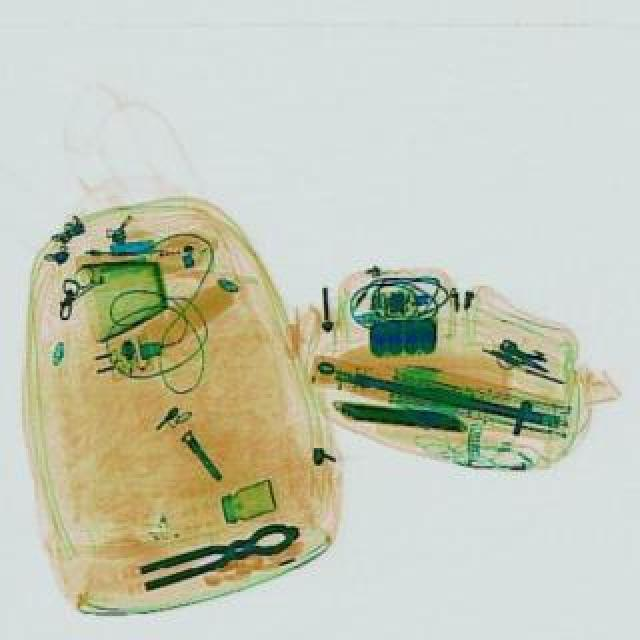wrench: (136, 512, 304, 592)
